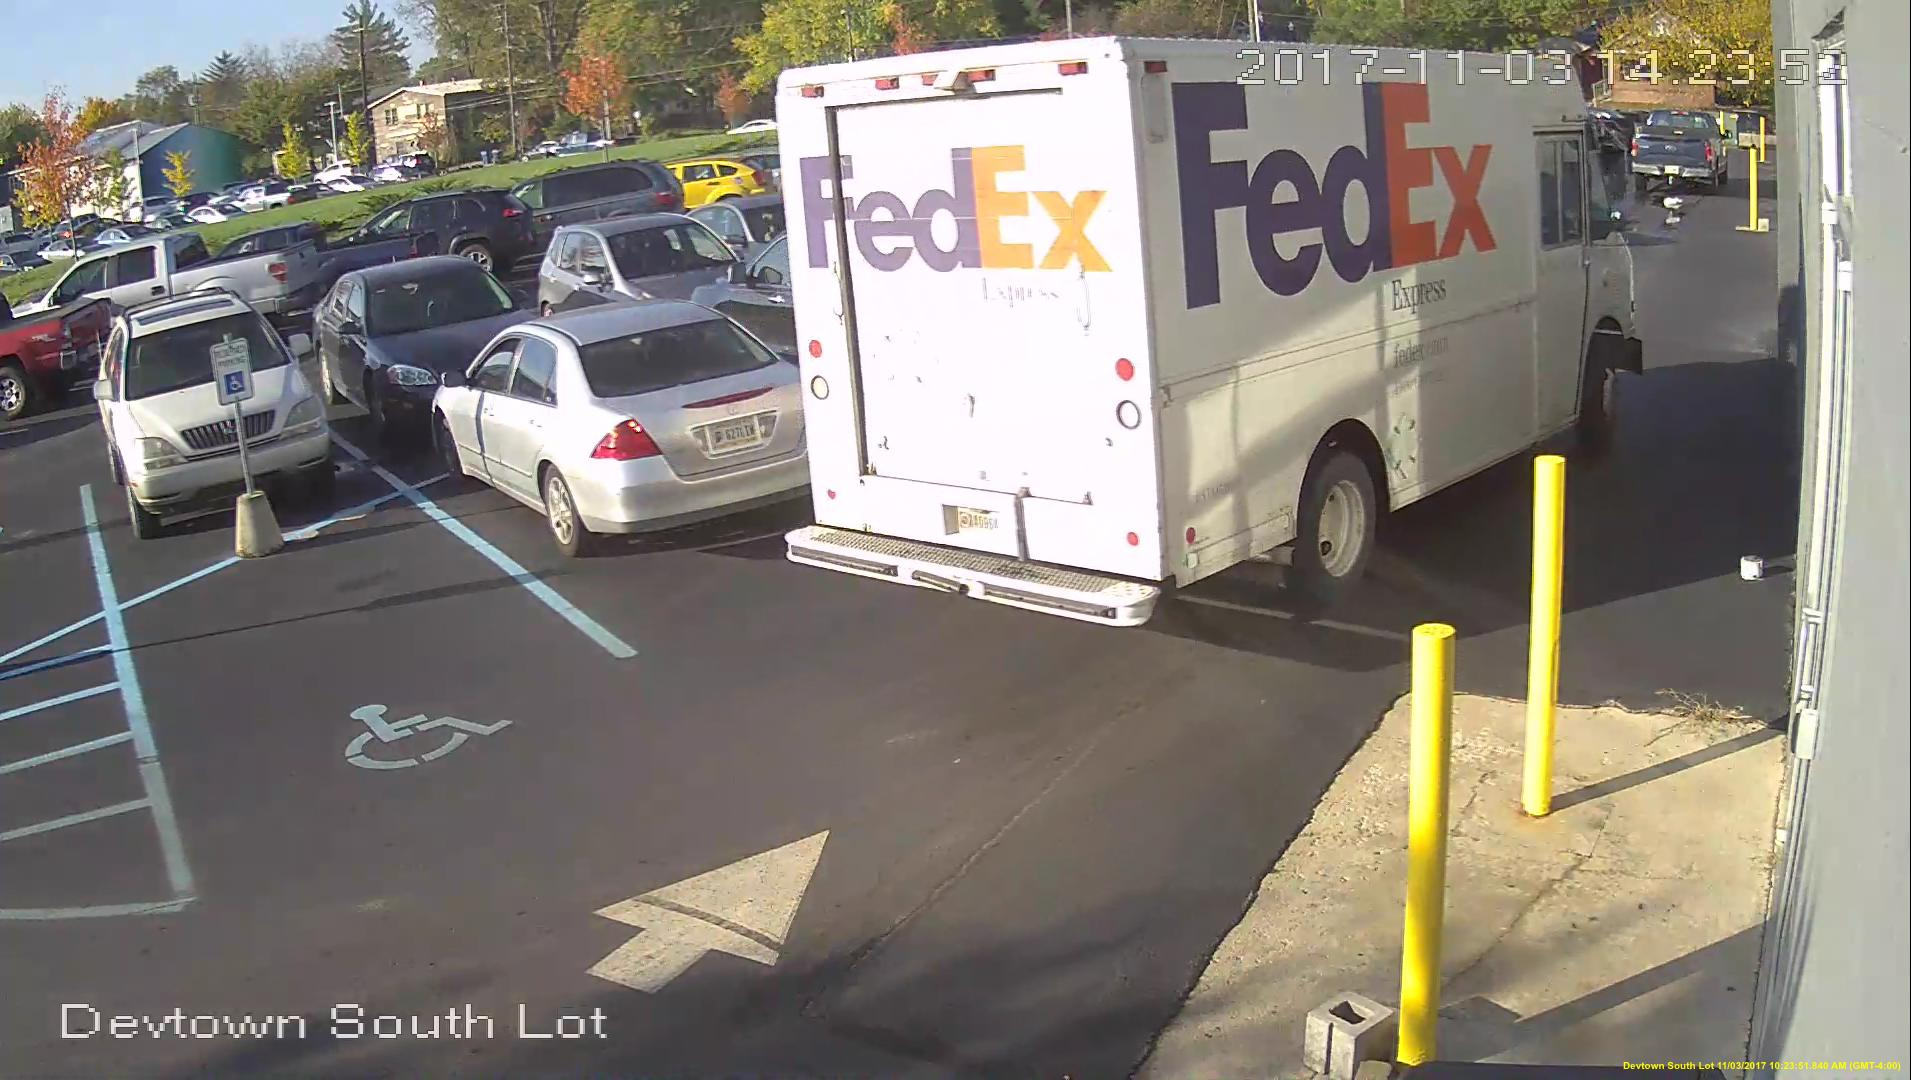fedex_truck: (763, 28, 1654, 636)
